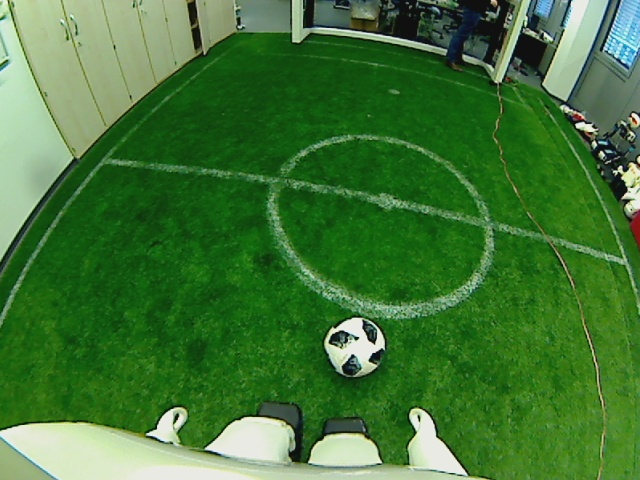ball: (322, 314, 388, 378)
